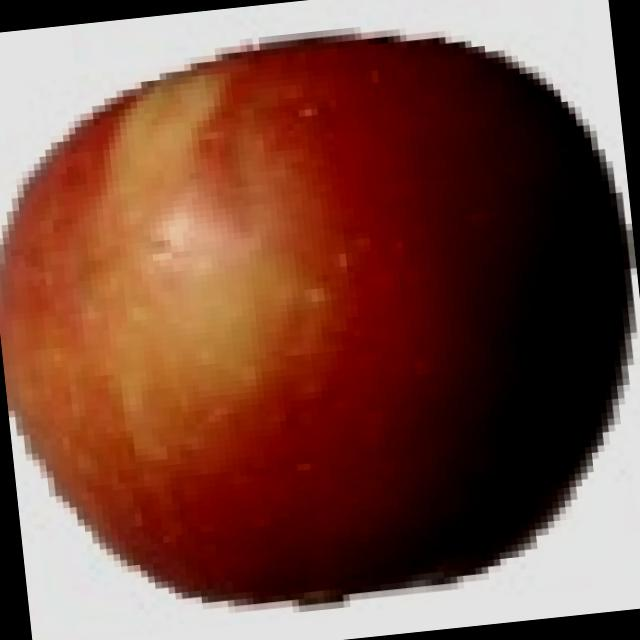apple: (0, 11, 640, 635)
